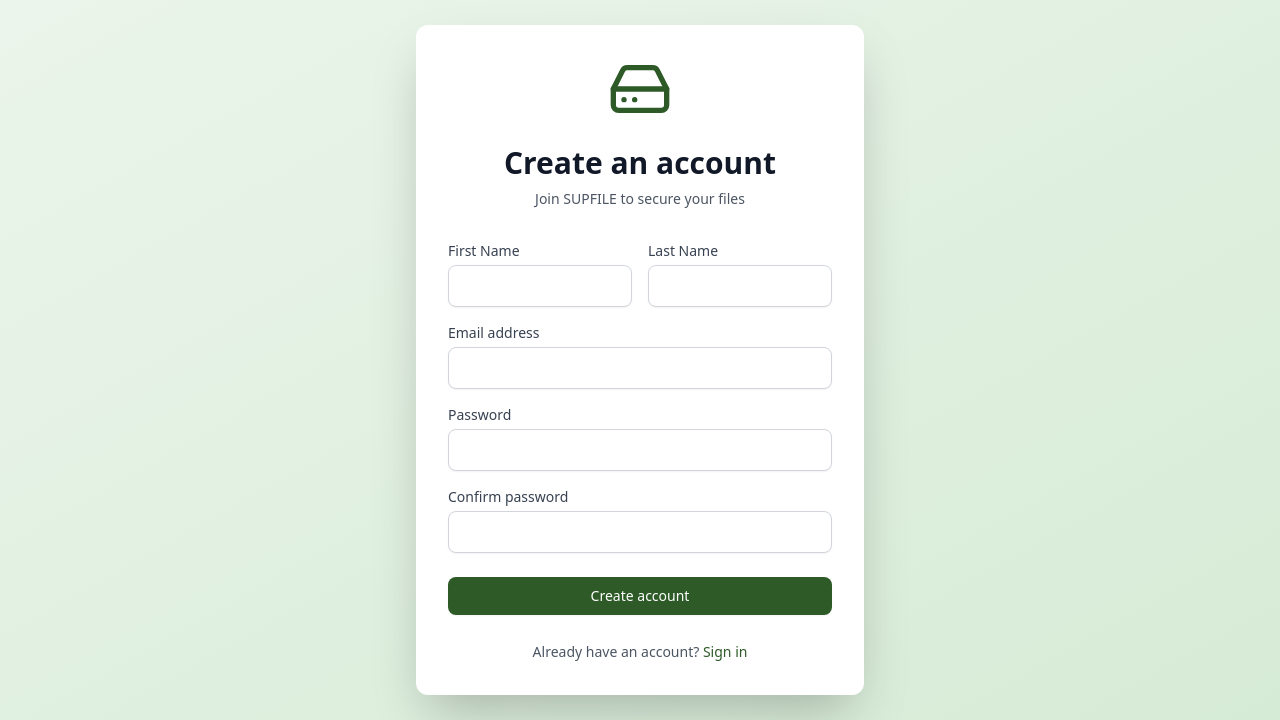
Test case: Register Flow › should show an error when password is too short
The image size is (1280, 720).
Type "test@example.com" into the field below "Email address". click: (640, 368)
box: left=448, top=347, right=832, bottom=389
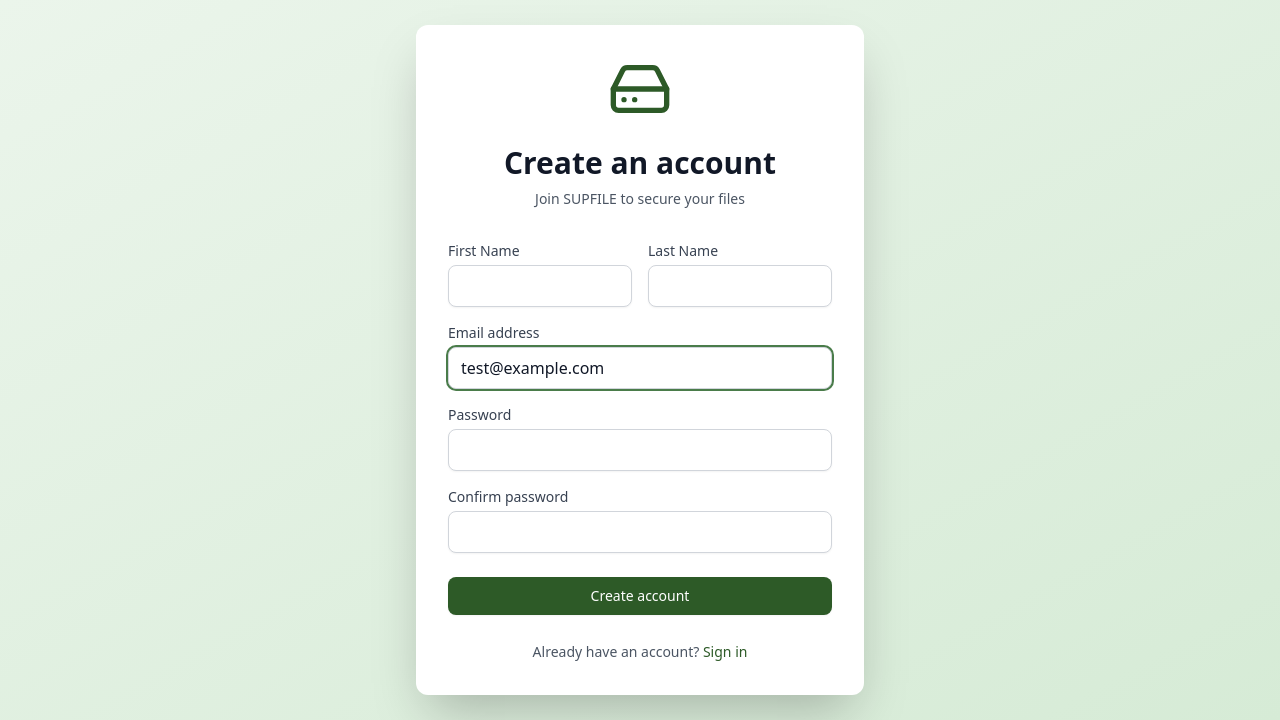
Type "abc" into the 1st password field. click: (640, 450)
box: left=448, top=429, right=832, bottom=471
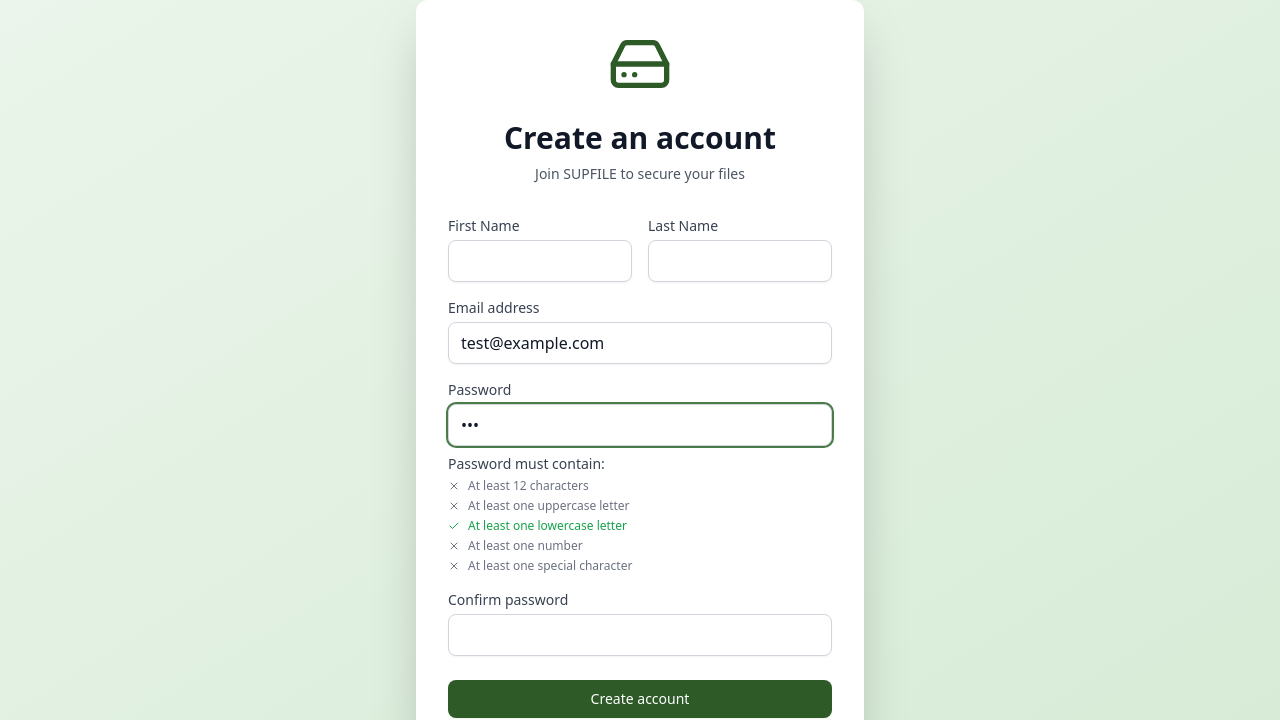
Type "abc" into the password field below "Confirm password". click: (640, 635)
box: left=448, top=614, right=832, bottom=656
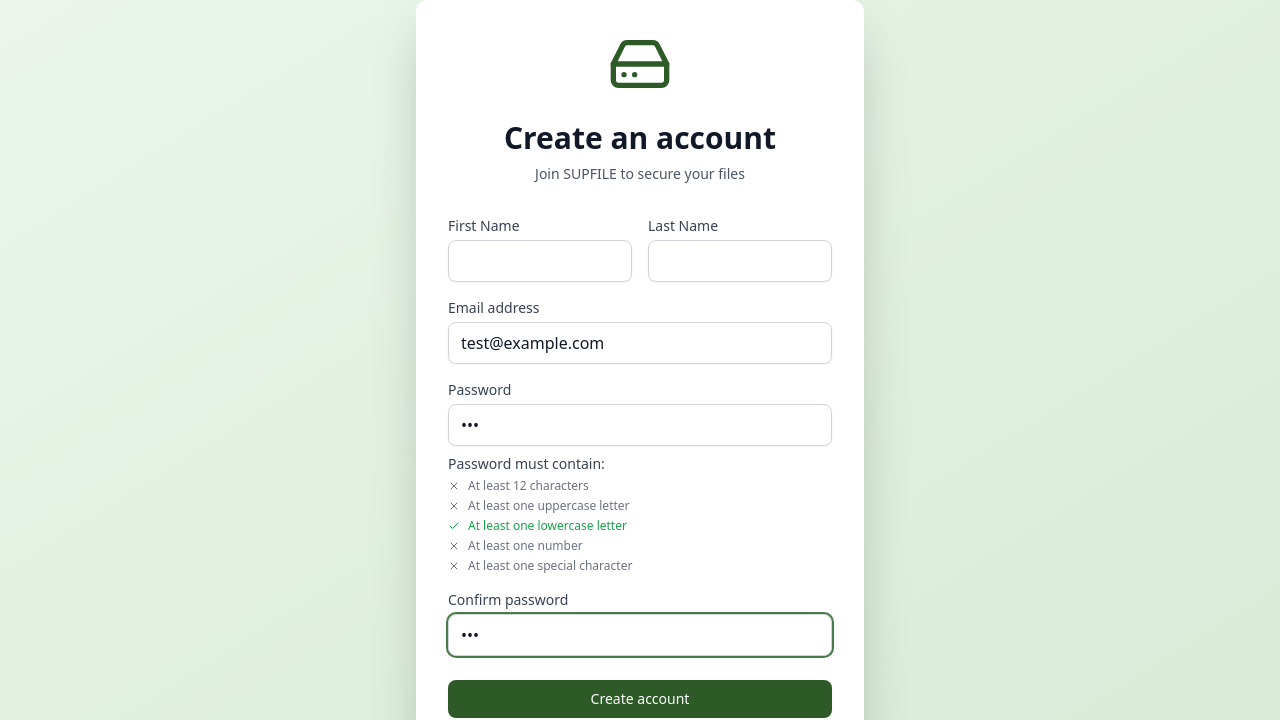
Click the submit button. click: (640, 699)
box: left=448, top=680, right=832, bottom=718
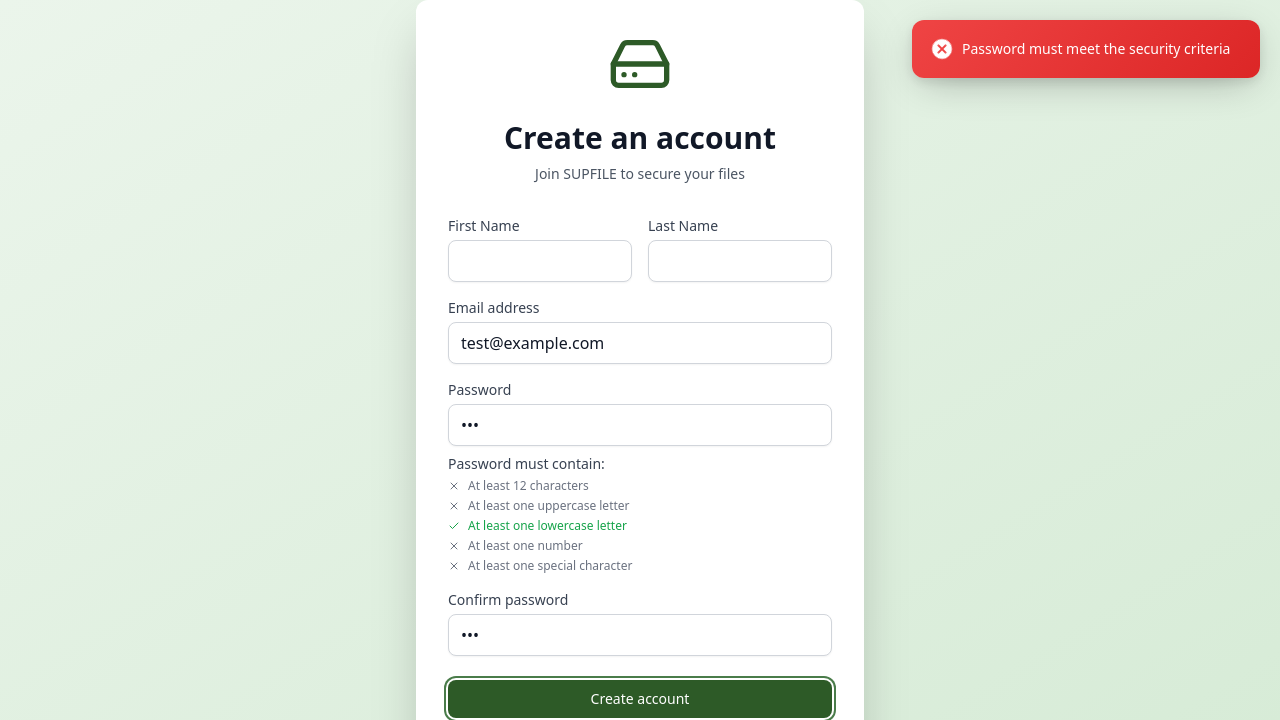
Expected: the text "must meet the security criteria" is shown, left=962, top=39, right=1230, bottom=58
